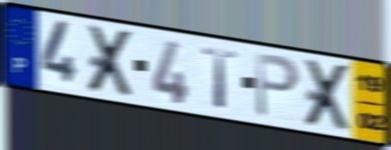4: (39, 17, 83, 91), (150, 36, 191, 108)
P: (254, 50, 302, 121)
T: (200, 45, 241, 112)
X: (302, 57, 353, 133), (85, 23, 136, 99)
